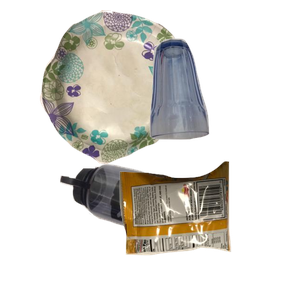glass: (147, 36, 300, 168)
paper: (37, 10, 219, 167)
plastic: (58, 162, 261, 300)
trash: (117, 159, 300, 300)
